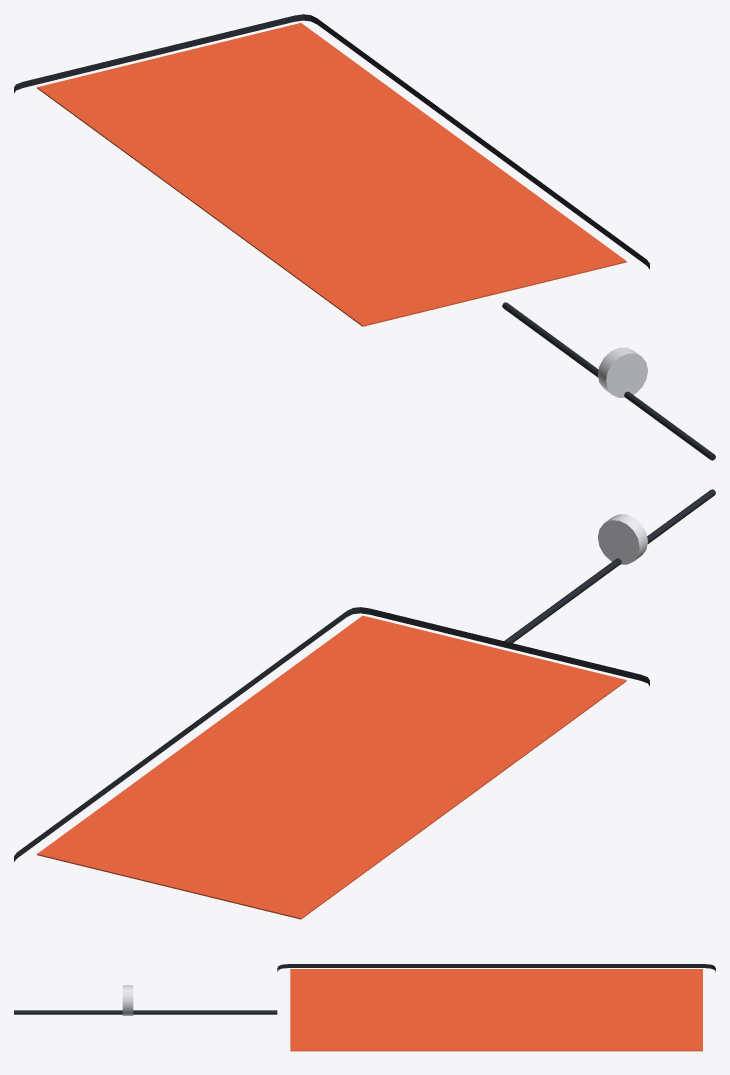
File: heat-mat-25x50.glb
3 views of the same model, one above another, from view 1: azimuth 30°, elevation 25°; view 2: azimuth 150°, elevation 25°; view 3: azimuth 270°, elevation 25° (orthographic). The views are drawn at different scales.
Visible parts, largest first — view 1: heat_element, mat_base, mat_thermostat, mat_lead; view 2: heat_element, mat_base, mat_thermostat, mat_lead; view 3: heat_element, mat_base, mat_lead, mat_thermostat.
Part boxes in pixels (<box>): heat_element: <box>37,23,626,326</box>; mat_base: <box>14,14,649,269</box>; mat_thermostat: <box>598,347,647,397</box>; mat_lead: <box>502,302,715,460</box>; heat_element: <box>37,615,626,919</box>; mat_base: <box>14,607,649,861</box>; mat_thermostat: <box>597,514,647,564</box>; mat_lead: <box>502,489,715,647</box>; heat_element: <box>290,969,702,1051</box>; mat_base: <box>277,964,715,971</box>; mat_lead: <box>14,1010,277,1014</box>; mat_thermostat: <box>122,985,133,1015</box>.
Bounding box in the file's own units: 0.25 × 0.035 × 0.8.
